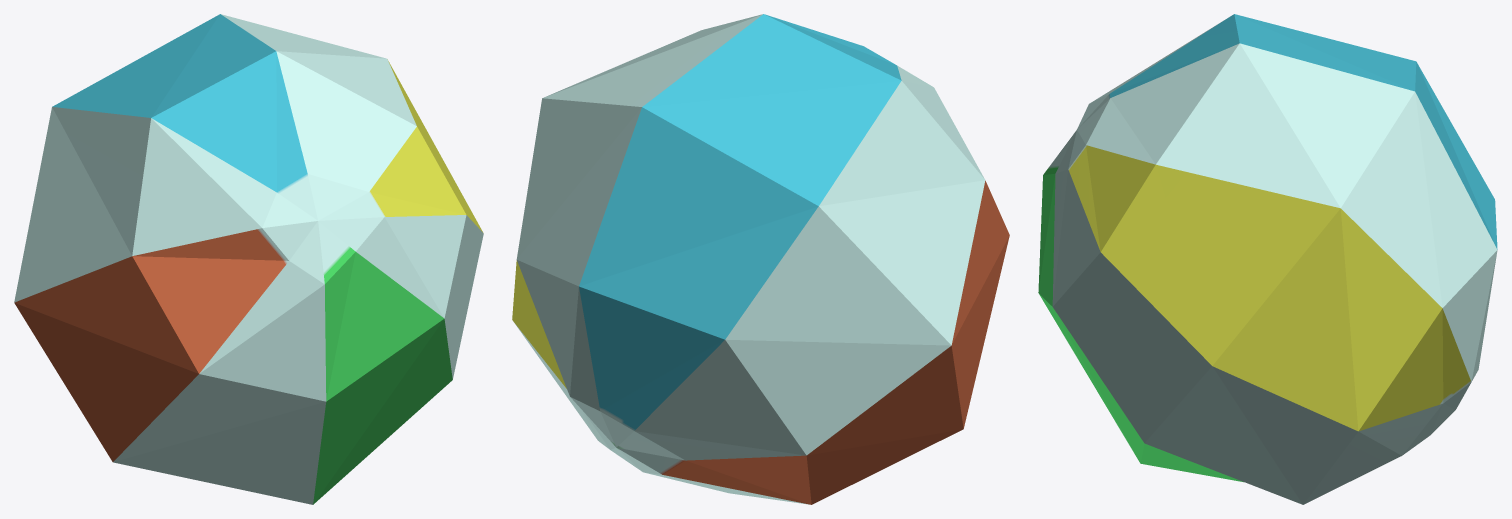
Rendered from ball.FBX.
The picture shows the model from 3 angles, left to right: view 1: azimuth 30°, elevation 25°; view 2: azimuth 150°, elevation 25°; view 3: azimuth 270°, elevation 25°; orthographic projection. The views are drawn at different scales.
Visible parts, largest first — view 1: Ball; view 2: Ball; view 3: Ball.
Boxes of the visible parts, x1,y1,x2,y2 form: Ball: (14,14,483,504); Ball: (512,14,1009,504); Ball: (1038,14,1497,504).
Size of the model in its own units: 35.85 by 35.95 by 33.57.
